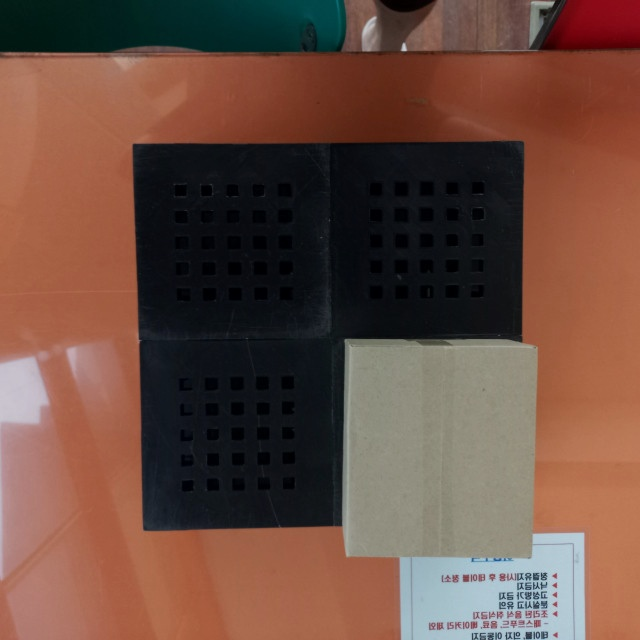box: (343, 336, 538, 561)
pallet: (133, 130, 537, 531)
